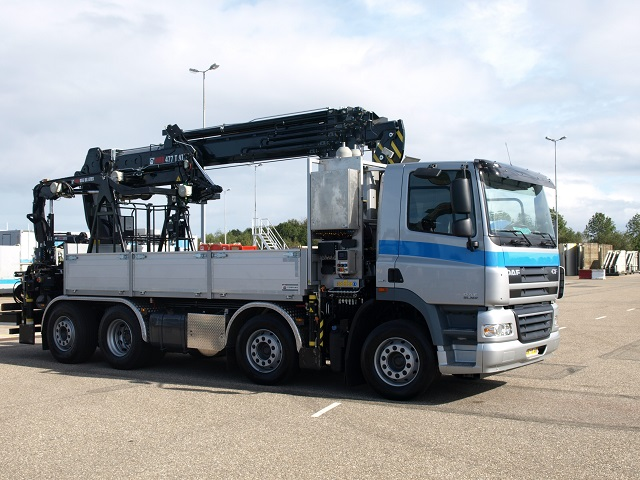truck: (15, 106, 564, 398)
